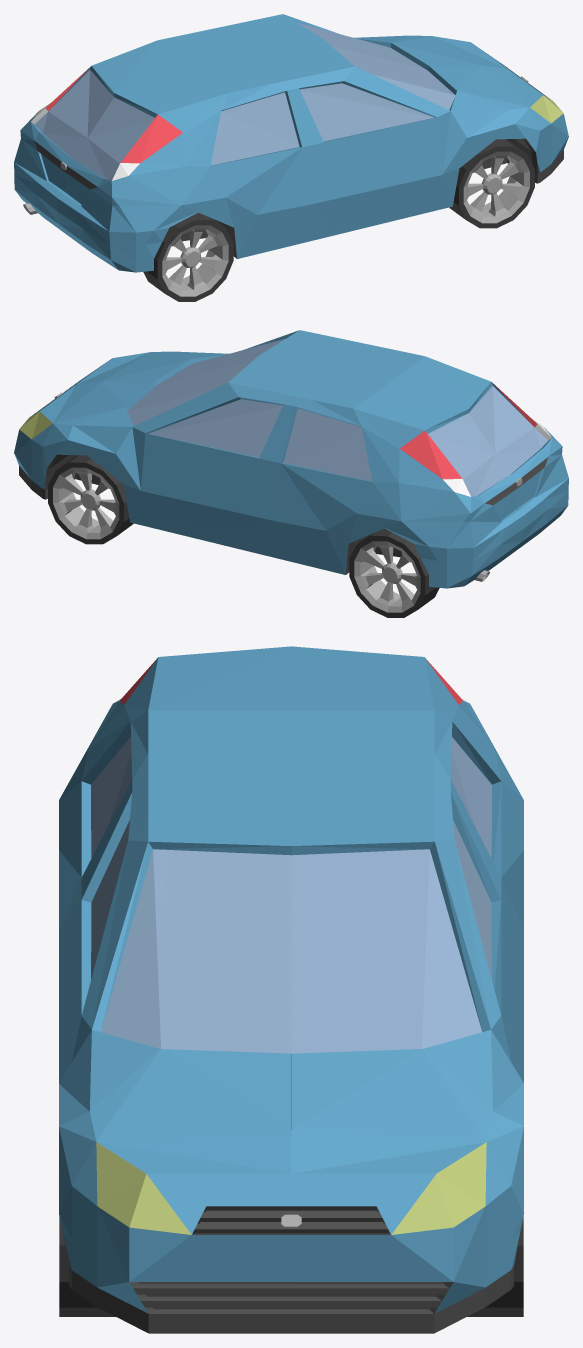
The model's file is Ford_Focus.glb.
The picture shows the model from 3 angles, top to bottom: view 1: azimuth 30°, elevation 25°; view 2: azimuth 150°, elevation 25°; view 3: azimuth 270°, elevation 25°; orthographic projection. The views are drawn at different scales.
Parts seen in each view (by area): view 1: Body, WheelR, WheelFR; view 2: Body, WheelR, WheelFL; view 3: Body, WheelFL, WheelFR.
Boxes of the visible parts, <box> form: Body: <box>14,14,568,272</box>; WheelR: <box>143,212,233,301</box>; WheelFR: <box>449,139,534,228</box>; Body: <box>14,330,568,588</box>; WheelR: <box>349,528,439,617</box>; WheelFL: <box>48,455,133,544</box>; Body: <box>59,646,523,1333</box>; WheelFL: <box>467,1217,523,1316</box>; WheelFR: <box>59,1217,115,1316</box>.
Size of the model in its own units: 4.29 by 1.56 by 1.83.
1 material, 1 textured.
